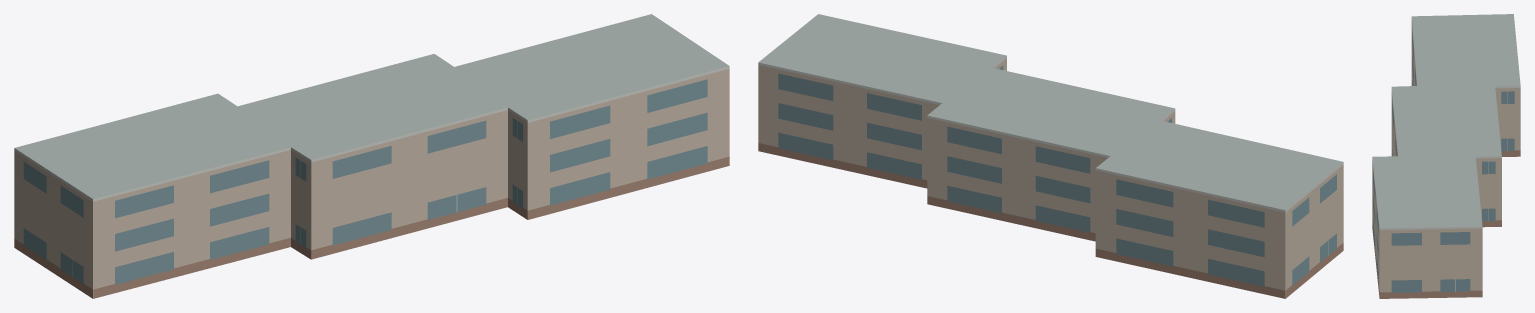
File: survey-upis-33027731.glb
3 renders of one model, left to right at view 1: azimuth 30°, elevation 25°; view 2: azimuth 150°, elevation 25°; view 3: azimuth 270°, elevation 25°, orthographic. The views are drawn at different scales.
Parts seen in each view (by area): view 1: survey-upis-33027731.tmp; view 2: survey-upis-33027731.tmp; view 3: survey-upis-33027731.tmp.
Boxes of the visible parts, x1,y1,x2,y2 form: survey-upis-33027731.tmp: (14,14,729,298); survey-upis-33027731.tmp: (758,14,1343,298); survey-upis-33027731.tmp: (1372,14,1520,298).
Bounding box in the file's own units: 59.53 × 9.15 × 17.42.
